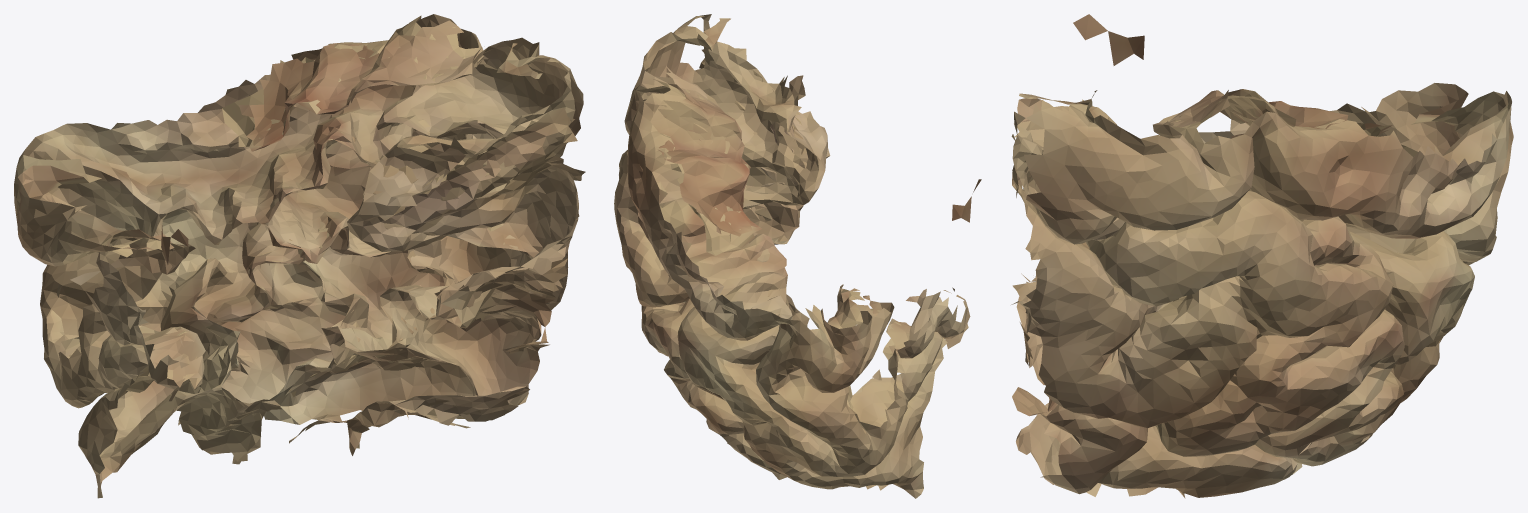
File: L_Parietal_Lobe.obj
The picture shows the model from 3 angles, left to right: view 1: azimuth 30°, elevation 25°; view 2: azimuth 150°, elevation 25°; view 3: azimuth 270°, elevation 25°; orthographic projection. The views are drawn at different scales.
Visible parts, largest first — view 1: L_Parietal_Lobe_R_Cortex_textured.000; view 2: L_Parietal_Lobe_R_Cortex_textured.000; view 3: L_Parietal_Lobe_R_Cortex_textured.000.
Boxes of the visible parts, x1,y1,x2,y2 form: L_Parietal_Lobe_R_Cortex_textured.000: (14,14,585,498); L_Parietal_Lobe_R_Cortex_textured.000: (614,14,981,498); L_Parietal_Lobe_R_Cortex_textured.000: (1011,14,1513,498).
Size of the model in its own units: 263 by 272 by 250.
